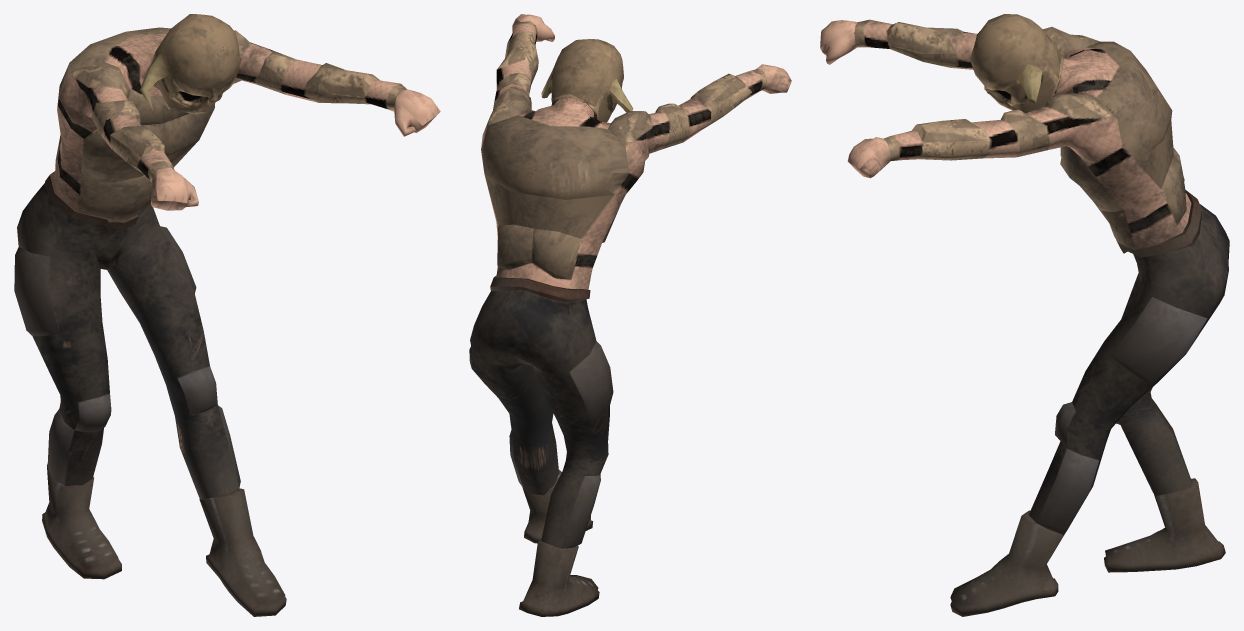
Rendered from Anim_ataque_d3_npc1.0043.obj.
The picture shows the model from 3 angles, left to right: view 1: azimuth 30°, elevation 25°; view 2: azimuth 150°, elevation 25°; view 3: azimuth 270°, elevation 25°; orthographic projection. The views are drawn at different scales.
Visible parts, largest first — view 1: NPC2; view 2: NPC2; view 3: NPC2.
Boxes of the visible parts, x1=… form: NPC2: x1=14, y1=14, x2=440, y2=616; NPC2: x1=469, y1=14, x2=791, y2=616; NPC2: x1=820, y1=14, x2=1229, y2=616.
Bounding box in the file's own units: 4.57 × 8.46 × 5.47.
